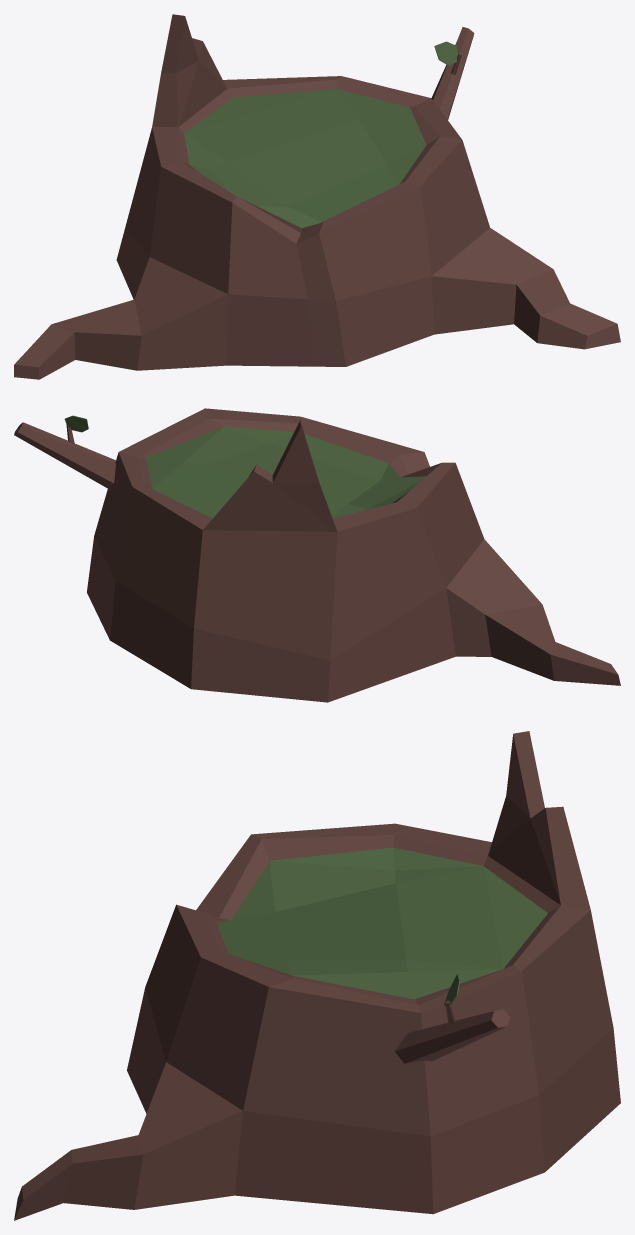
Rendered from TreeStump_Moss.gltf.
3 views of the same model, one above another, from view 1: azimuth 30°, elevation 25°; view 2: azimuth 150°, elevation 25°; view 3: azimuth 270°, elevation 25° (orthographic). The views are drawn at different scales.
Visible parts, largest first — view 1: TreeStump_Moss; view 2: TreeStump_Moss; view 3: TreeStump_Moss.
Boxes of the visible parts, x1=… form: TreeStump_Moss: x1=14, y1=14, x2=620, y2=379; TreeStump_Moss: x1=14, y1=408, x2=620, y2=702; TreeStump_Moss: x1=14, y1=731, x2=620, y2=1220.
Bounding box in the file's own units: 1.36 × 0.6216 × 1.03.
